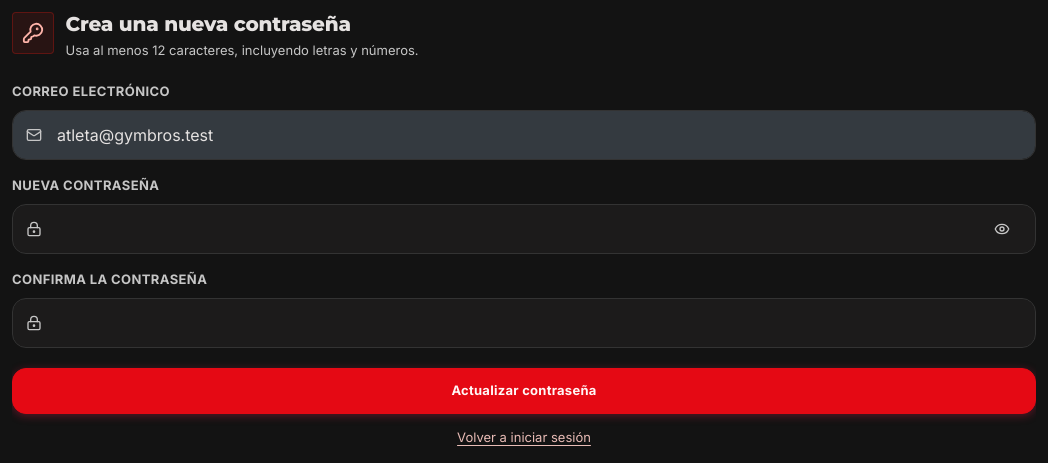
Test: ResetPasswordView › envía correo, token y las dos contraseñas sin iniciar sesión
Type "NuevaClave2026" into the password field with id "restablecer-password" at (524, 229), box [12, 204, 1036, 254]
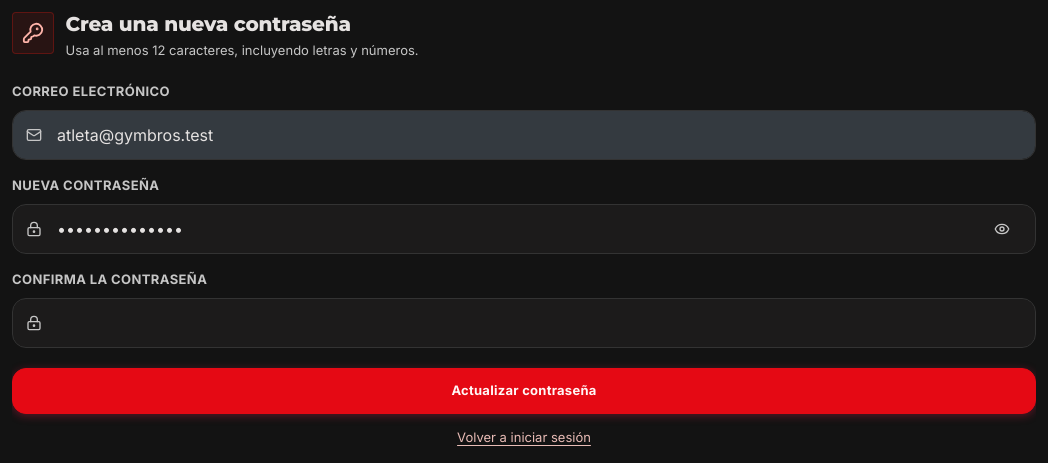
Type "NuevaClave2026" into the password field with id "restablecer-confirmacion" at (524, 323), box [12, 298, 1036, 348]
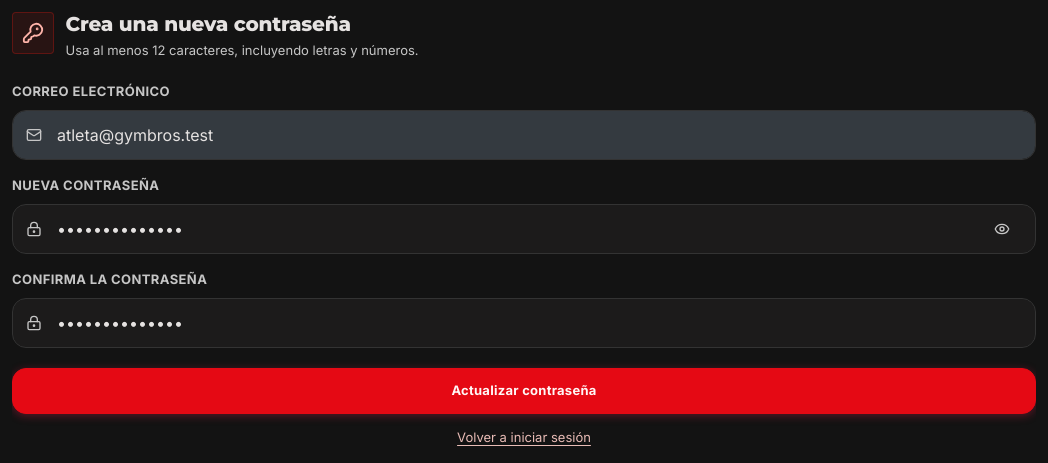
Submit the form
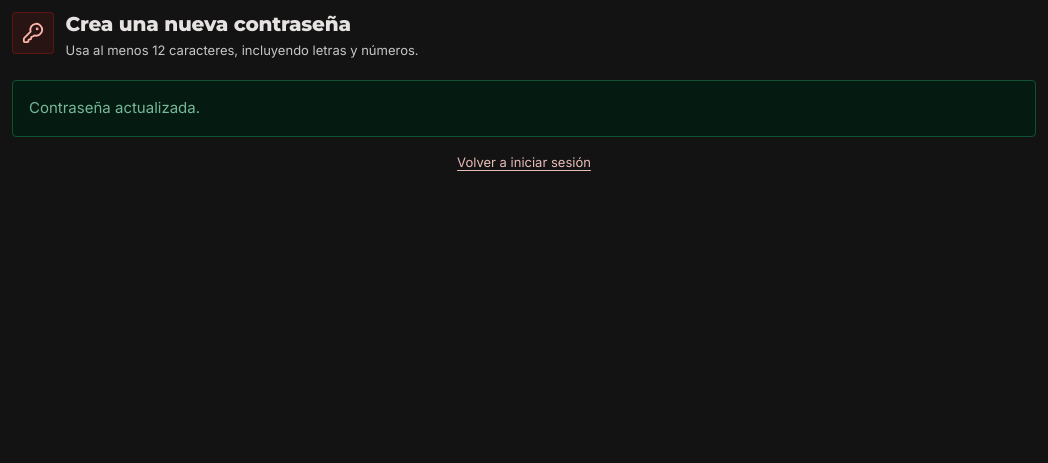
Check: the text "Contraseña actualizada." is shown, box [12, 80, 1036, 137]
